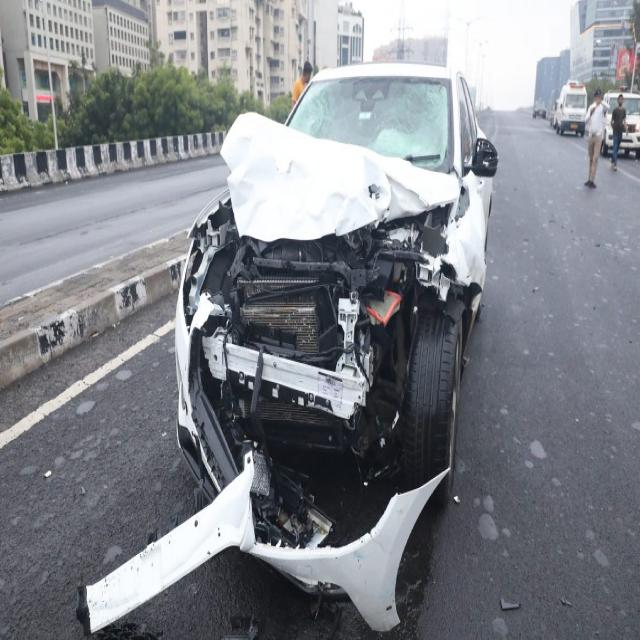crush: (77, 109, 483, 634)
